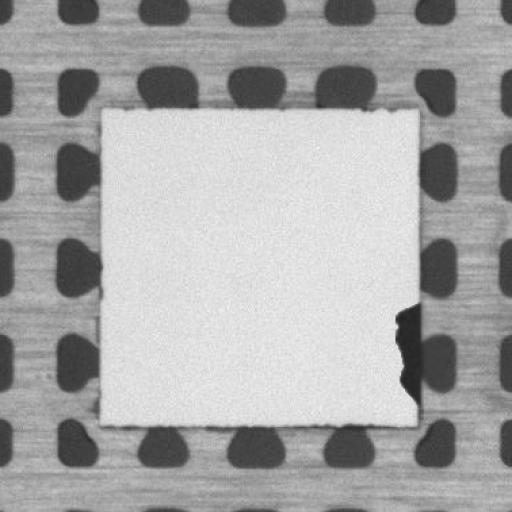DIE_BROKEN: (392, 297, 422, 401)
